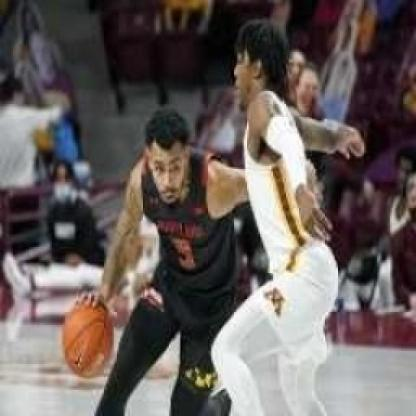basketball: (65, 298, 110, 373)
